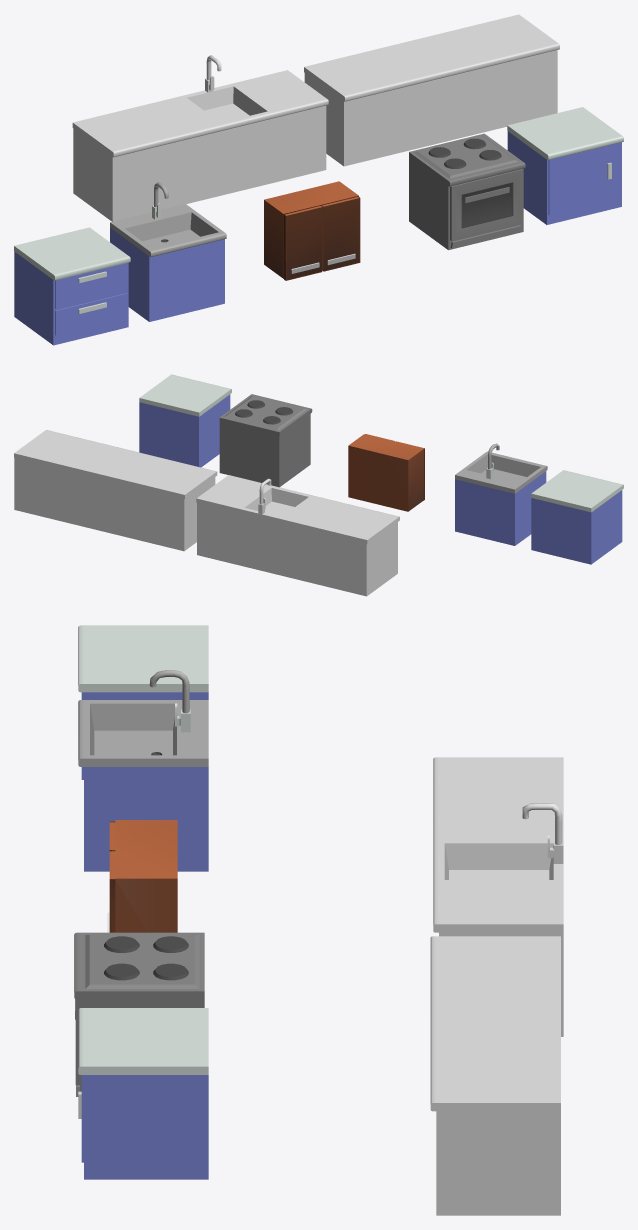
The model's file is wallCabinet.fbx.
The picture shows the model from 3 angles, top to bottom: view 1: azimuth 30°, elevation 25°; view 2: azimuth 150°, elevation 25°; view 3: azimuth 270°, elevation 25°; orthographic projection. The views are drawn at different scales.
Visible parts, largest first — view 1: Cube, Cube.007, Cube.009, Cube.003, Cube.012, Cube.004, Cube.015, Circle; view 2: Cube, Cube.007, Cube.009, Cube.003, Cube.012, Cube.004, Cube.015, Circle; view 3: Cube.007, Cube, Cube.003, Cube.004, Cube.009, Cube.012, Cube.015, Circle.
Part boxes in pixels (bbox=[...]): Cube: bbox=[72, 70, 328, 221]; Cube.007: bbox=[304, 14, 559, 166]; Cube.009: bbox=[14, 227, 130, 345]; Cube.003: bbox=[507, 107, 623, 224]; Cube.012: bbox=[409, 133, 525, 250]; Cube.004: bbox=[110, 204, 226, 321]; Cube.015: bbox=[264, 181, 360, 280]; Circle: bbox=[428, 138, 501, 168]; Cube: bbox=[196, 475, 399, 596]; Cube.007: bbox=[14, 430, 217, 551]; Cube.009: bbox=[531, 470, 623, 564]; Cube.003: bbox=[139, 374, 231, 467]; Cube.012: bbox=[219, 394, 312, 487]; Cube.004: bbox=[455, 451, 547, 545]; Cube.015: bbox=[348, 434, 424, 511]; Circle: bbox=[235, 400, 292, 424]; Cube.007: bbox=[430, 936, 560, 1215]; Cube: bbox=[433, 757, 563, 1036]; Cube.003: bbox=[78, 1008, 208, 1179]; Cube.004: bbox=[78, 700, 208, 871]; Cube.009: bbox=[78, 625, 208, 779]; Cube.012: bbox=[74, 932, 204, 1096]; Cube.015: bbox=[109, 820, 177, 932]; Circle: bbox=[104, 936, 188, 980].
Bounding box in the file's own units: 906 × 153 × 392.
